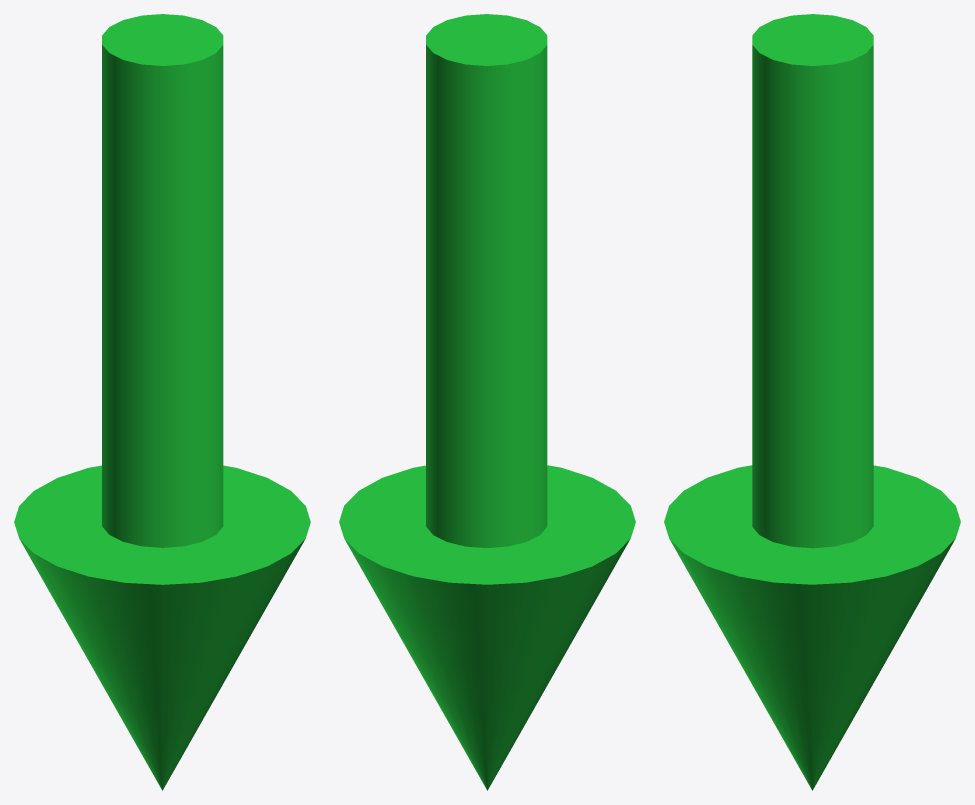
Rendered from DrilPos.FBX.
The picture shows the model from 3 angles, left to right: view 1: azimuth 30°, elevation 25°; view 2: azimuth 150°, elevation 25°; view 3: azimuth 270°, elevation 25°; orthographic projection.
Visible parts, largest first — view 1: Cylinder001, Cone001; view 2: Cylinder001, Cone001; view 3: Cylinder001, Cone001.
Boxes of the visible parts, x1=… form: Cylinder001: x1=102, y1=14, x2=223, y2=547; Cone001: x1=14, y1=465, x2=310, y2=790; Cylinder001: x1=426, y1=14, x2=547, y2=547; Cone001: x1=339, y1=465, x2=635, y2=790; Cylinder001: x1=752, y1=14, x2=873, y2=548; Cone001: x1=664, y1=465, x2=960, y2=790.
Size of the model in its own units: 70.6 by 197 by 70.6.
Materials: 1 (1 with a texture image).
